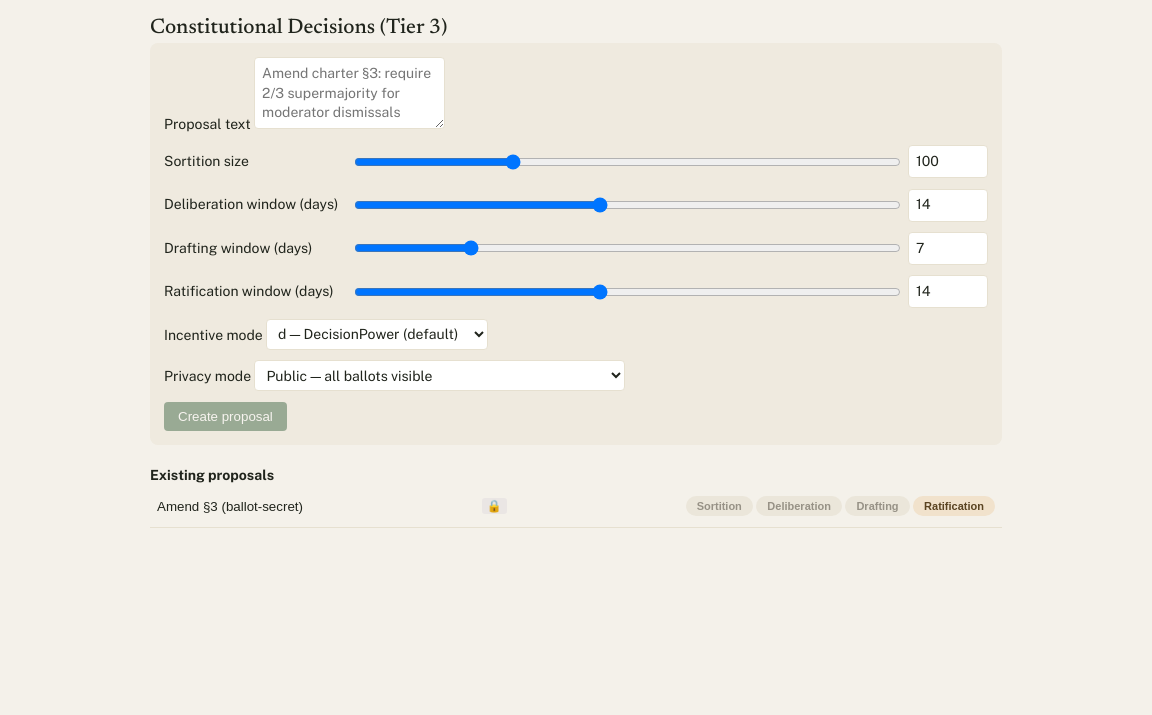
Tier3ProposalPanel — awaiting-tally state › does NOT show awaiting-tally banner when zero shares have arrived (clock-skew safe)
Click the text "Amend §3 (ballot-secret)".
click(230, 506)  # box left=157, top=498, right=303, bottom=514
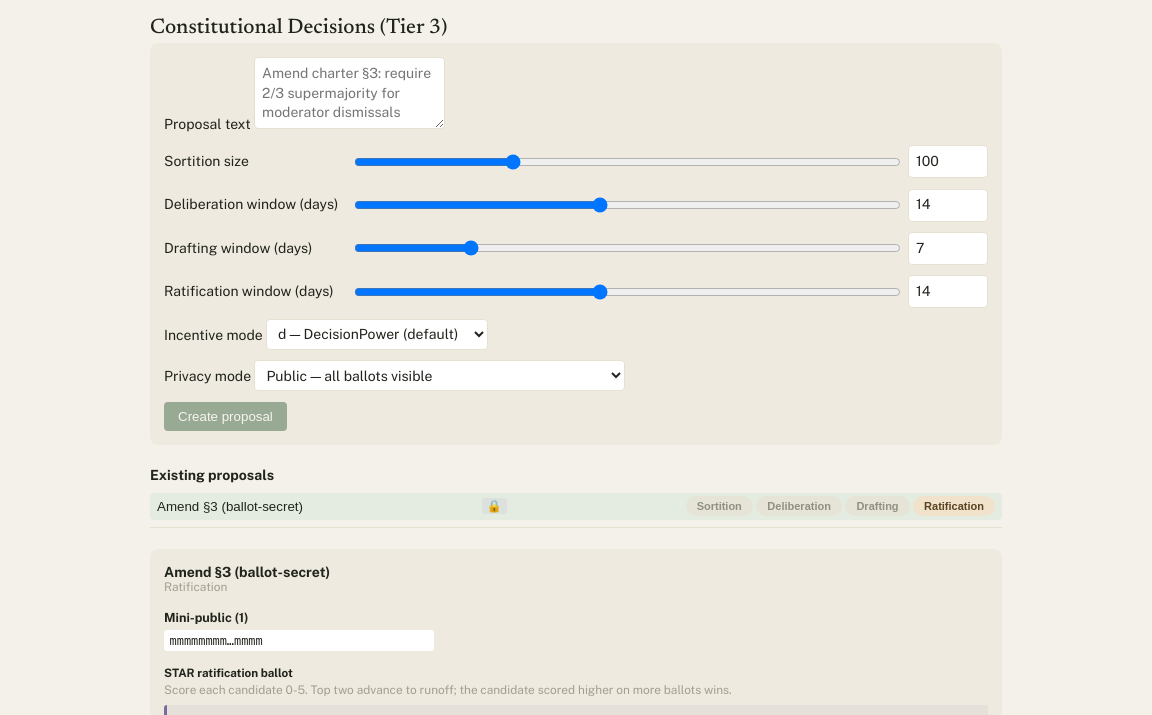
Expected: the heading "Amend §3 (ballot-secret)" is shown, left=164, top=564, right=330, bottom=580
